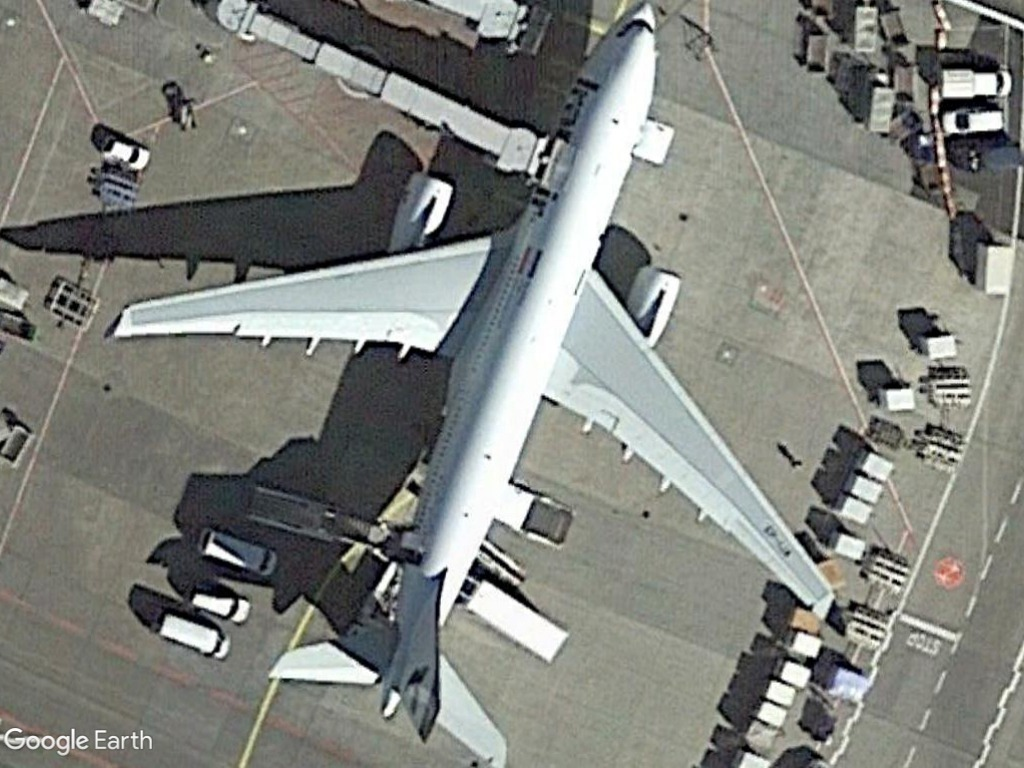airliner: (96, 8, 841, 768)
car: (99, 132, 156, 173)
longvehicle: (463, 576, 575, 667)
van: (147, 610, 238, 666), (197, 527, 281, 583), (186, 581, 253, 626)
